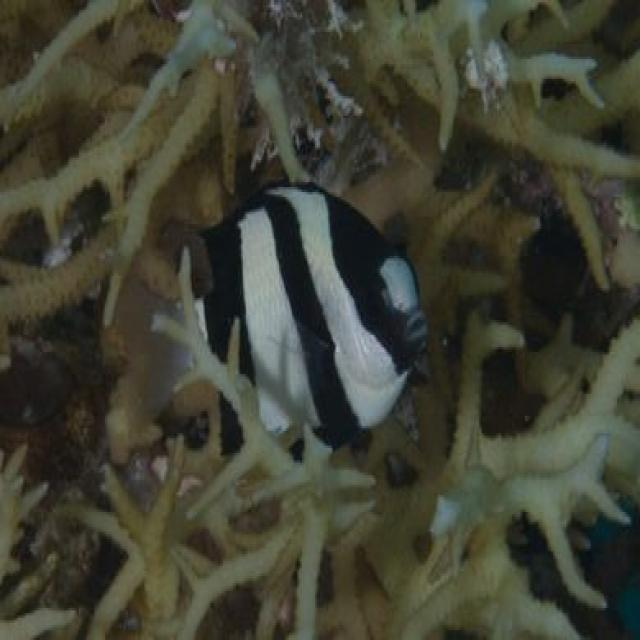Three_striped DasmselFish: (156, 180, 421, 451)
